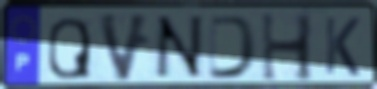D: (206, 14, 261, 81)
H: (259, 10, 316, 84)
K: (322, 15, 362, 79)
N: (152, 14, 206, 82)
Q: (46, 16, 93, 81)
V: (96, 11, 153, 85)
